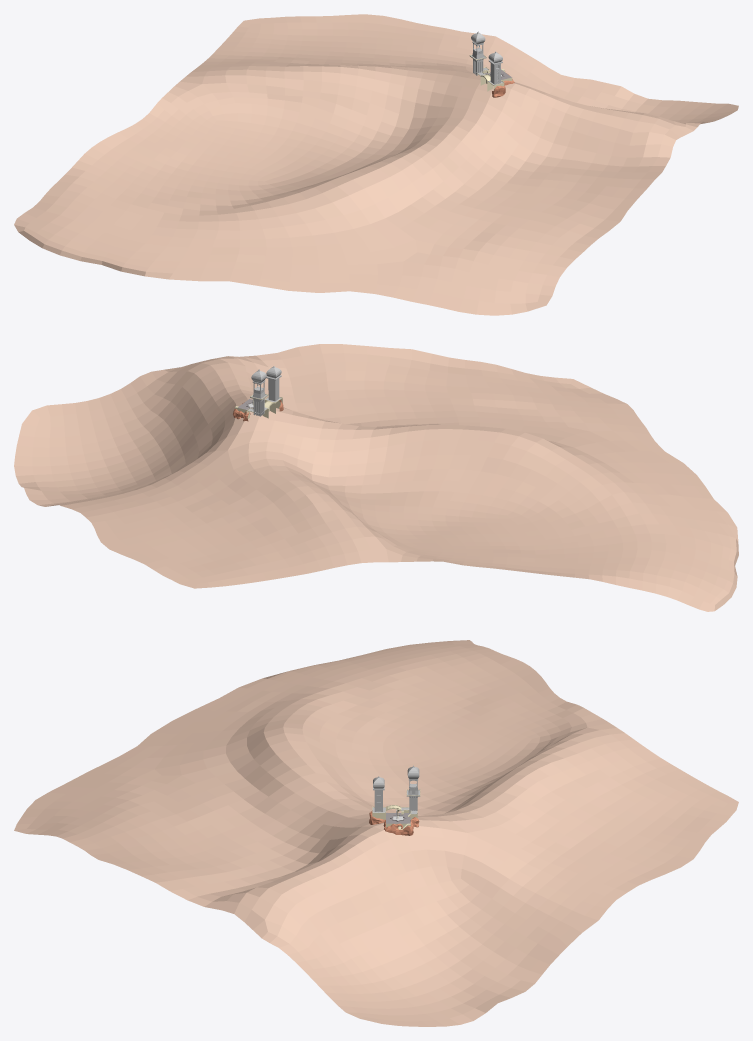
The model's file is cstle_5.FBX.
3 renders of one model, top to bottom at view 1: azimuth 30°, elevation 25°; view 2: azimuth 150°, elevation 25°; view 3: azimuth 270°, elevation 25°, orthographic. The views are drawn at different scales.
Parts seen in each view (by area): view 1: ground; view 2: ground, tower 1; view 3: ground.
Part boxes in pixels (<box>): ground: <box>14,14,738,315</box>; ground: <box>14,344,738,611</box>; tower 1: <box>250,369,267,416</box>; ground: <box>14,640,738,1026</box>.
Bounding box in the file's own units: 2518 × 480 × 2108.
